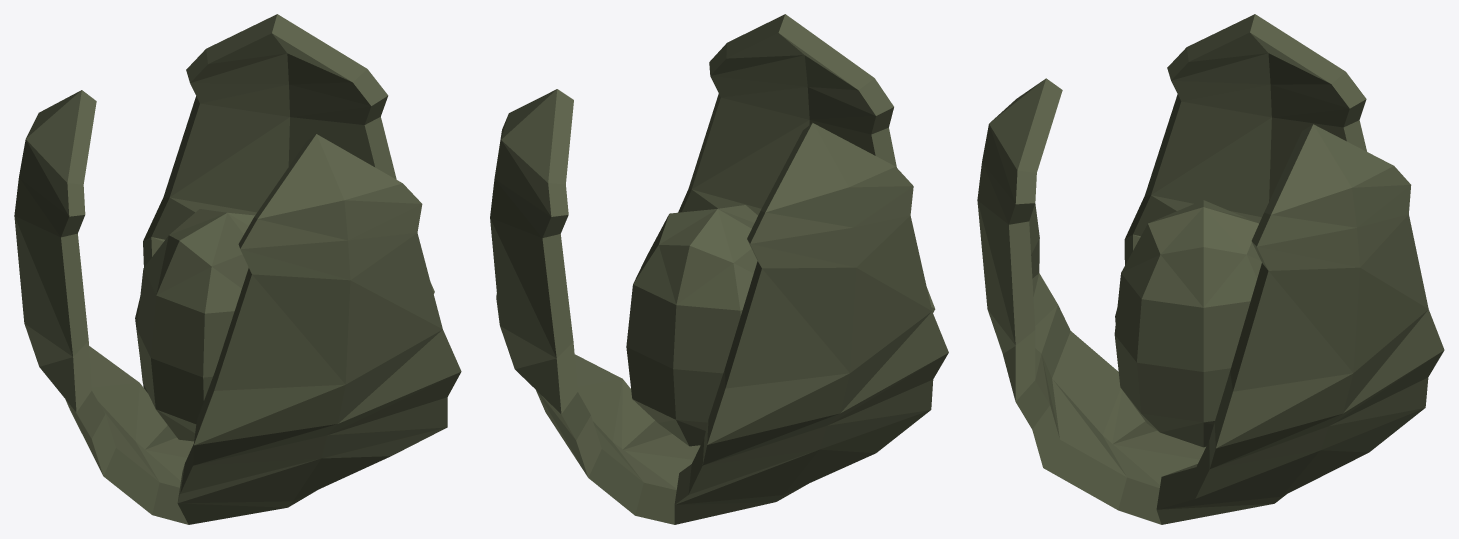
The model's file is crop_cabbage.s2.glb.
The picture shows the model from 3 angles, left to right: view 1: azimuth 30°, elevation 25°; view 2: azimuth 150°, elevation 25°; view 3: azimuth 270°, elevation 25°; orthographic projection.
Size of the model in its own units: 0.3534 by 0.3391 by 0.3518.
